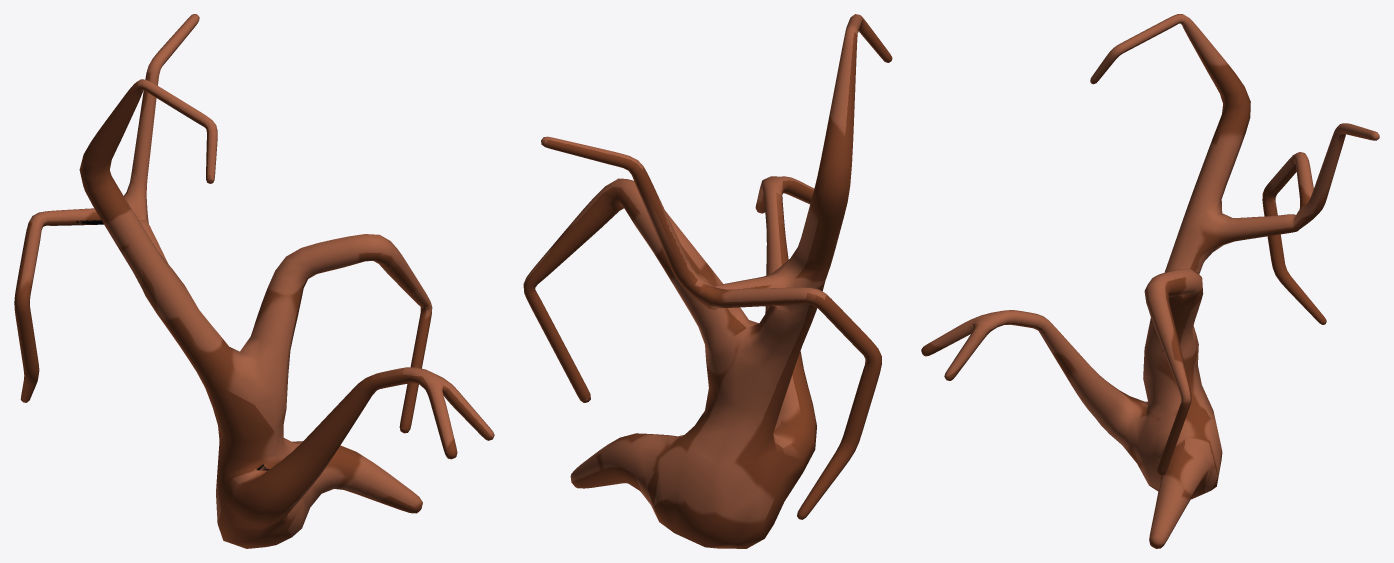
The model's file is 枯树干测试.glb.
The picture shows the model from 3 angles, left to right: view 1: azimuth 30°, elevation 25°; view 2: azimuth 150°, elevation 25°; view 3: azimuth 270°, elevation 25°; orthographic projection. The views are drawn at different scales.
Visible parts, largest first — view 1: 枯树干备份; view 2: 枯树干备份; view 3: 枯树干备份.
Part boxes in pixels (x1=…): 枯树干备份: x1=14, y1=14, x2=494, y2=548; 枯树干备份: x1=523, y1=14, x2=892, y2=548; 枯树干备份: x1=921, y1=14, x2=1379, y2=548.
Size of the model in its own units: 2.5 by 3.19 by 3.09.
1 material, 1 textured.
